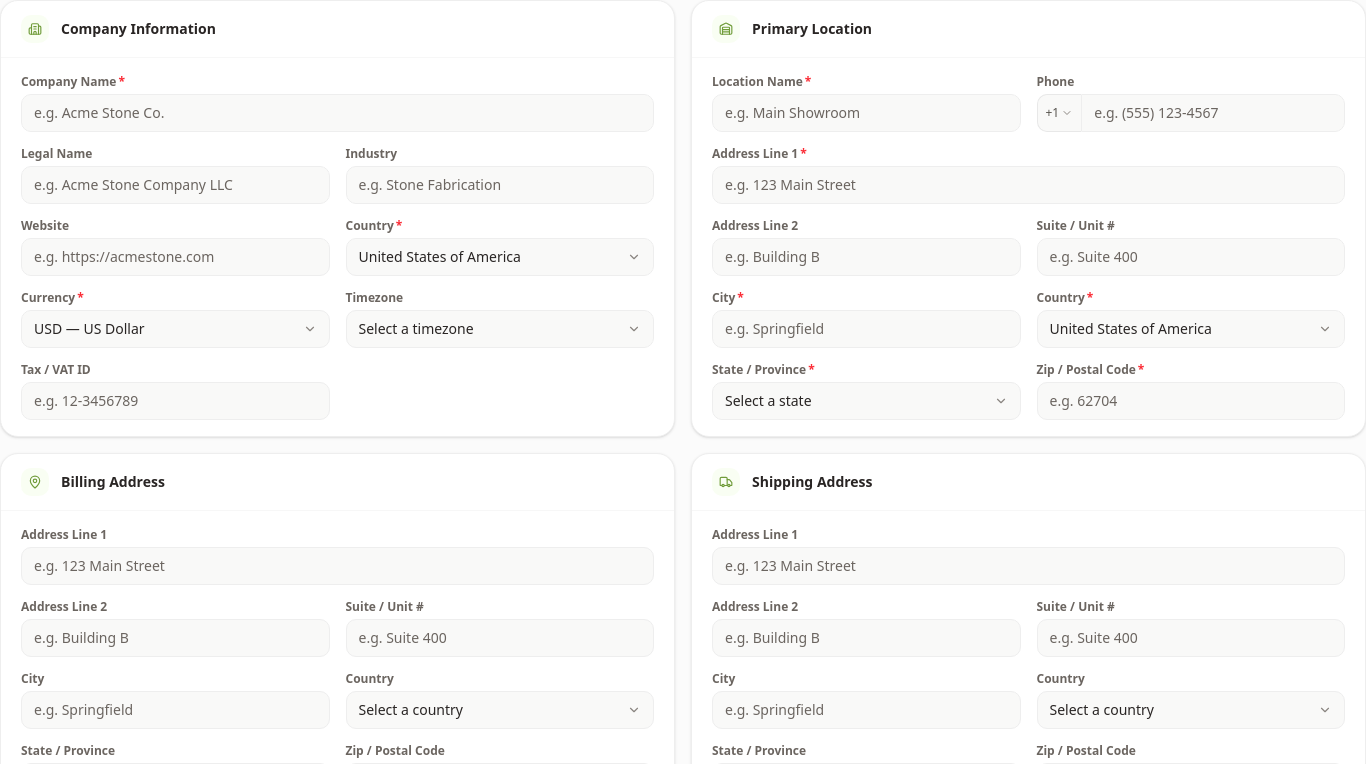
Test case: OnboardingForm — State dropdown › offers only the chosen country's states from the lookup table
Click the button with aria-label "State / Province: Select a state" at {"x": 768, "y": 400}, box [712, 382, 1020, 420]
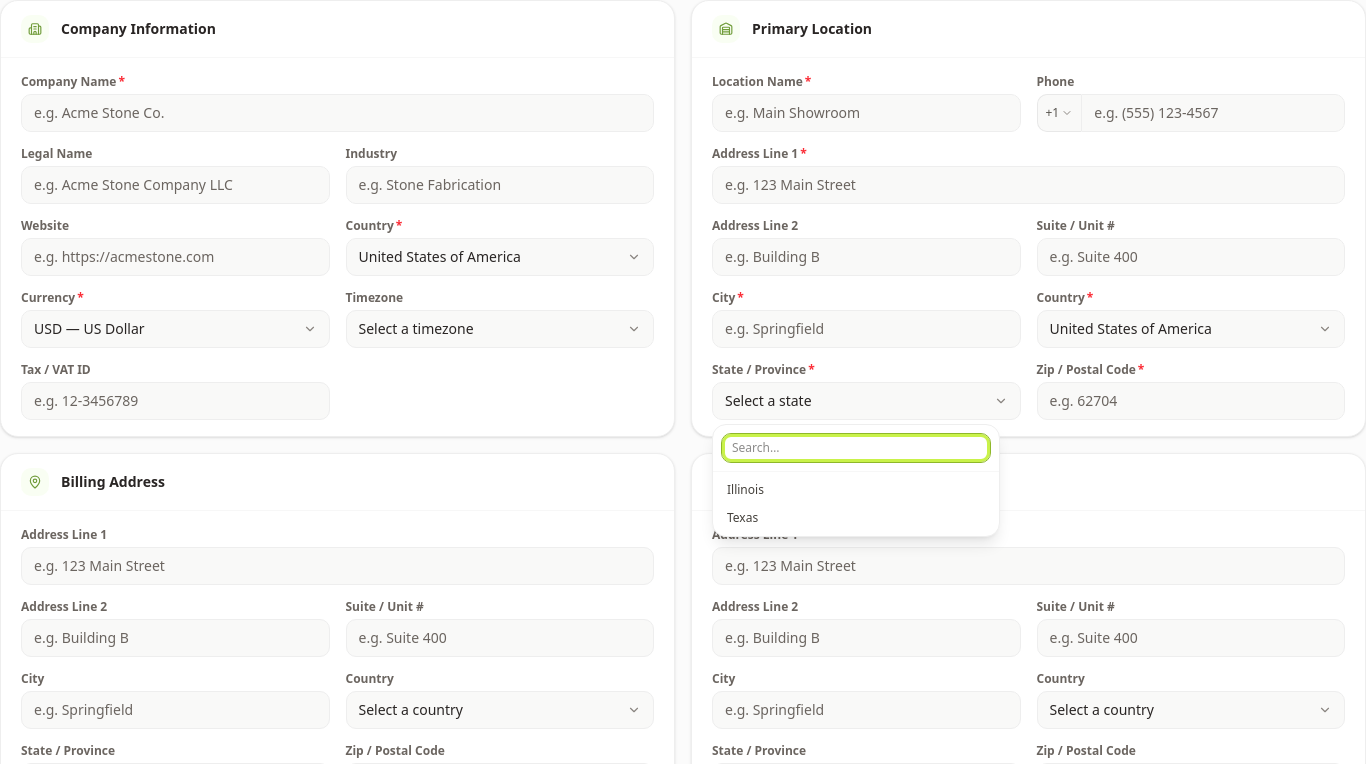
Expected: the option "Illinois" is shown, [717, 476, 995, 504]
Expected: the option "Texas" is shown, [717, 504, 995, 532]
